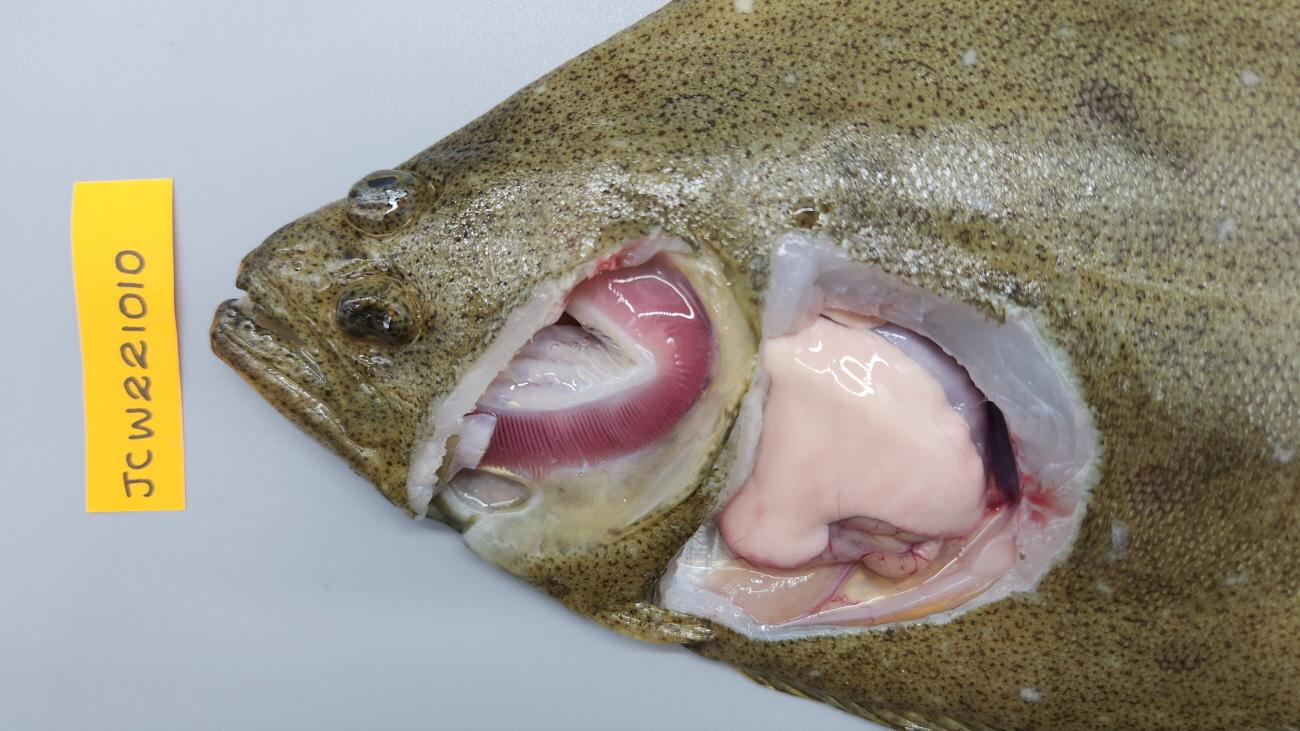POLIN: (714, 316, 986, 567)
